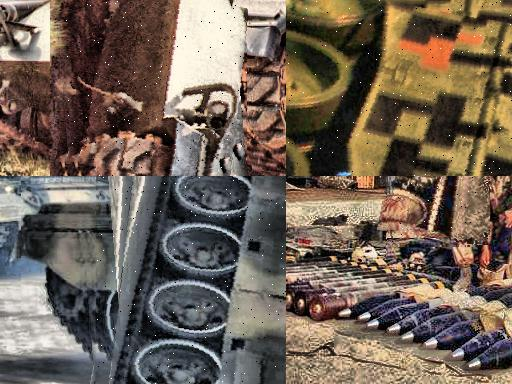tanks: (287, 1, 512, 177), (111, 177, 287, 384), (67, 1, 248, 177), (1, 177, 110, 266), (388, 177, 491, 247)
